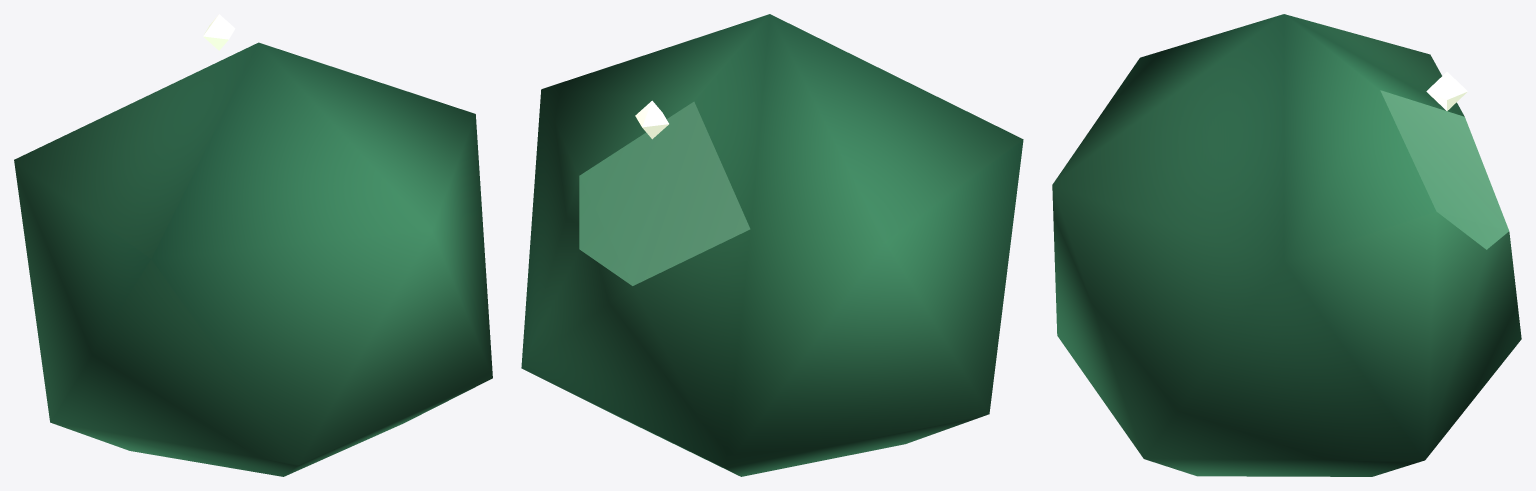
The model's file is ore_jade_low.glb.
The picture shows the model from 3 angles, left to right: view 1: azimuth 30°, elevation 25°; view 2: azimuth 150°, elevation 25°; view 3: azimuth 270°, elevation 25°; orthographic projection. The views are drawn at different scales.
Size of the model in its own units: 0.26 by 0.22 by 0.23.
